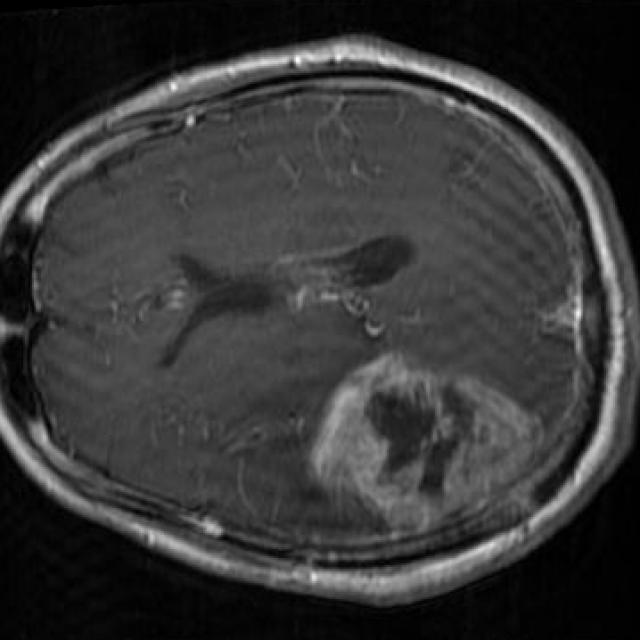glioma: (310, 353, 544, 538)
